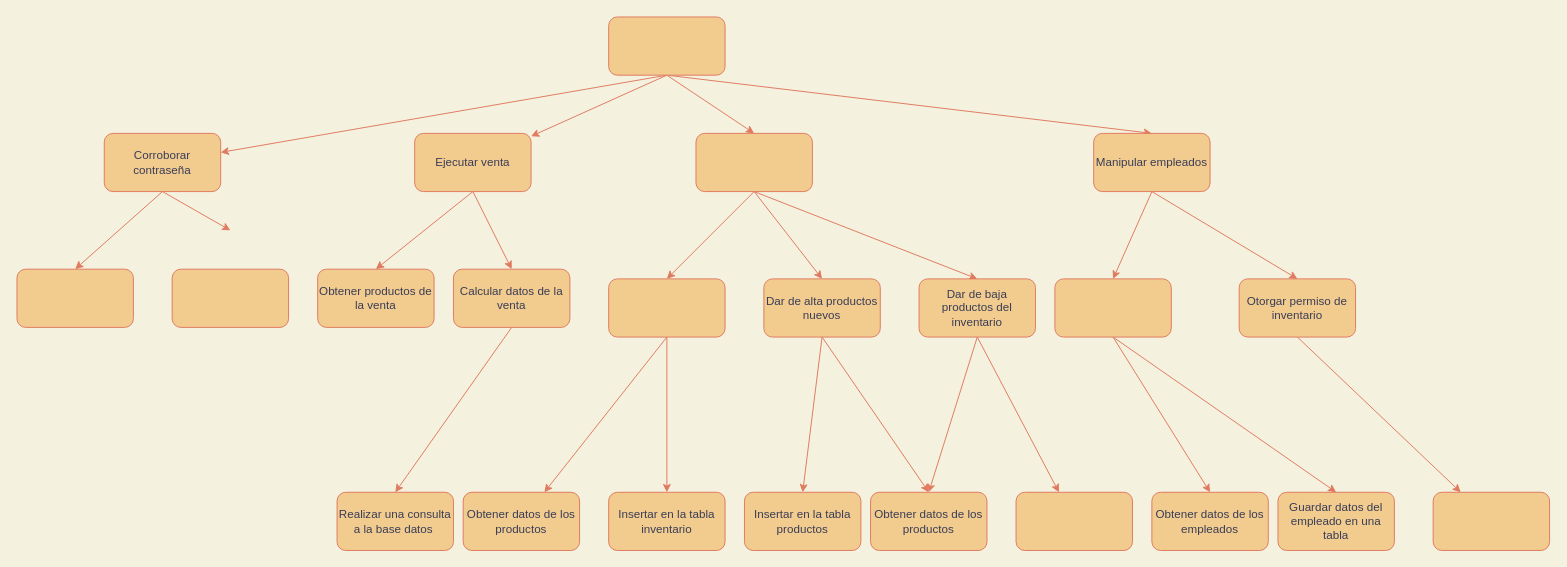
Image size: 1567x567. Some labels were removed from this diagram. The shapes that lost their labels are listed below. From the top down, each one's centre as x and y in pixels, then its label:
At (666,45): "Ingresar al sistema".
At (753,162): "Manipular inventario".
At (74,297): "Realizar consulta a la base de datos".
At (230,297): "Verificar igualdad de datos".
At (666,307): "Ingresar productos nuevos a la inventario".
At (1112,307): "Dar de alta nuevos empleados".
At (1073,520): "Eliminar de la tabla productos".
At (1491,520): "Cambiar flag de la base datos".
